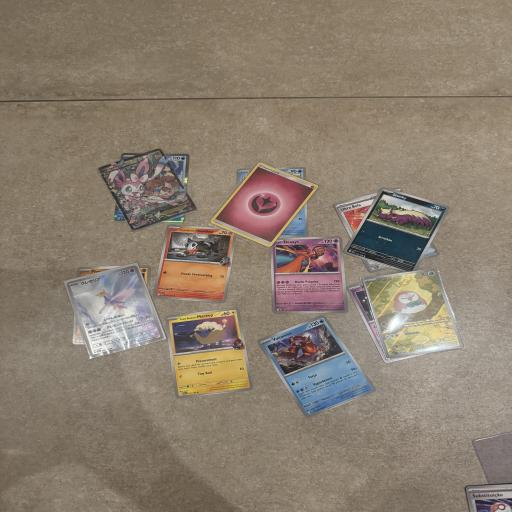card: (256, 300, 378, 432), (209, 146, 320, 262), (363, 256, 464, 370), (97, 135, 198, 244), (343, 182, 450, 278), (67, 259, 164, 362), (164, 305, 254, 401), (152, 223, 234, 303), (271, 236, 348, 315)
